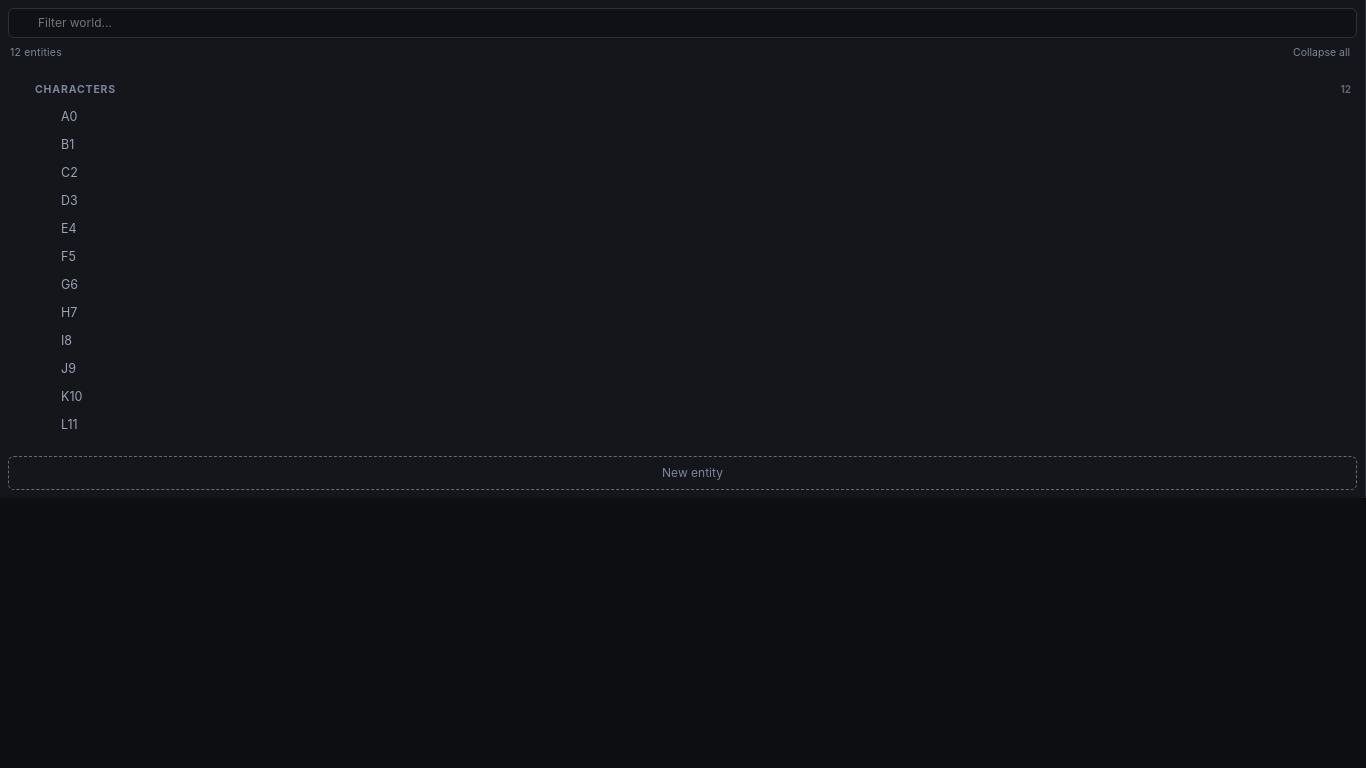
Test: navigator favourites and recents › offers the same switch in the row menu, the way in from the keyboard
Right-click the button "C2" at (44, 174), box [8,160,1357,188]
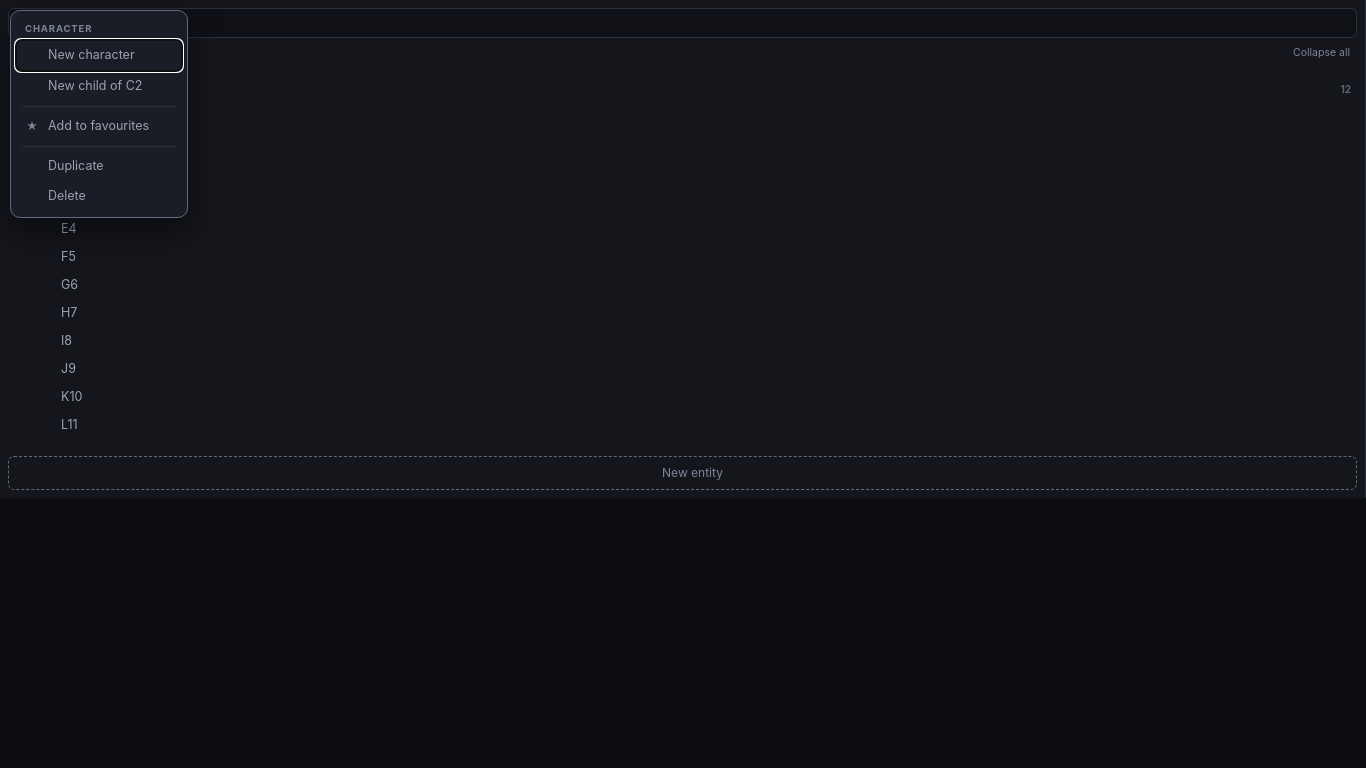
Click the menu item "Add to favourites" at (99, 126), box [16,111,182,142]
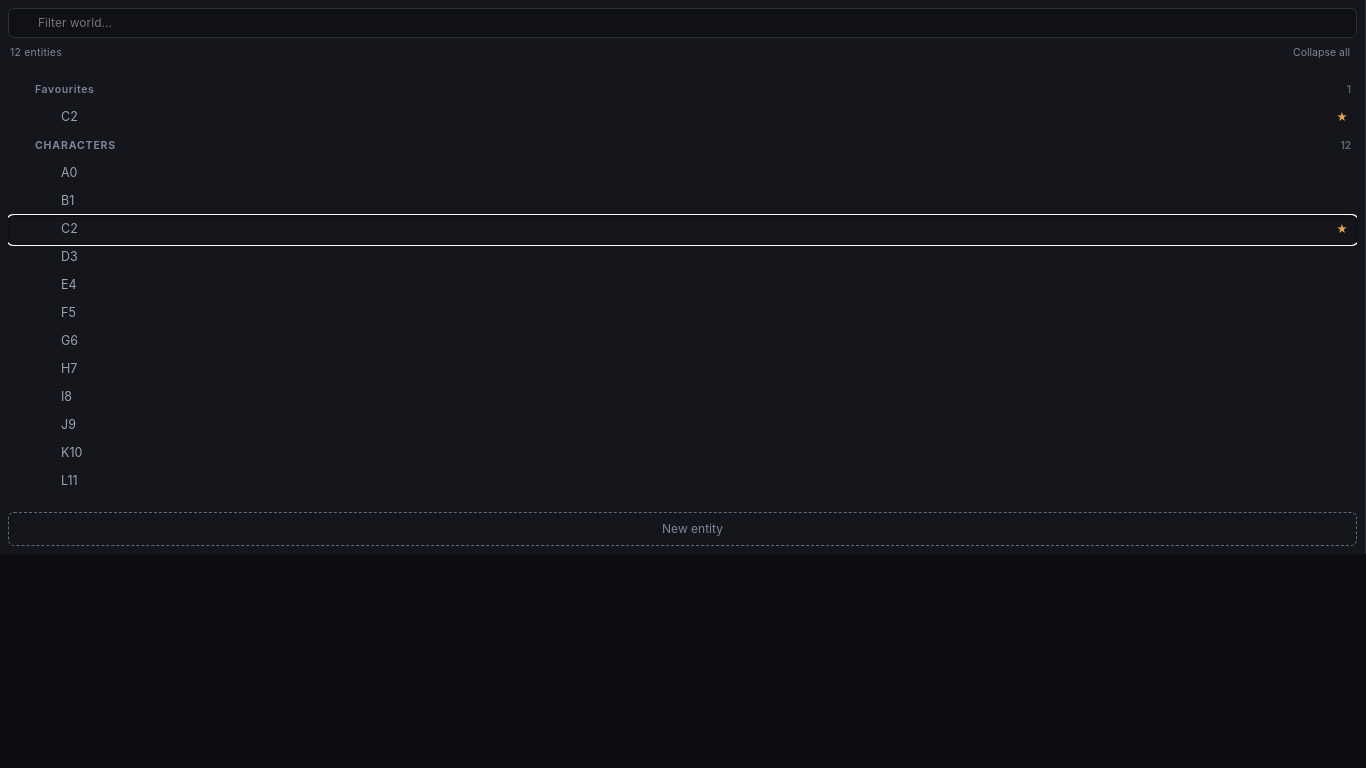
Right-click the 1st button "C2" at (44, 118), box [8,104,1357,132]
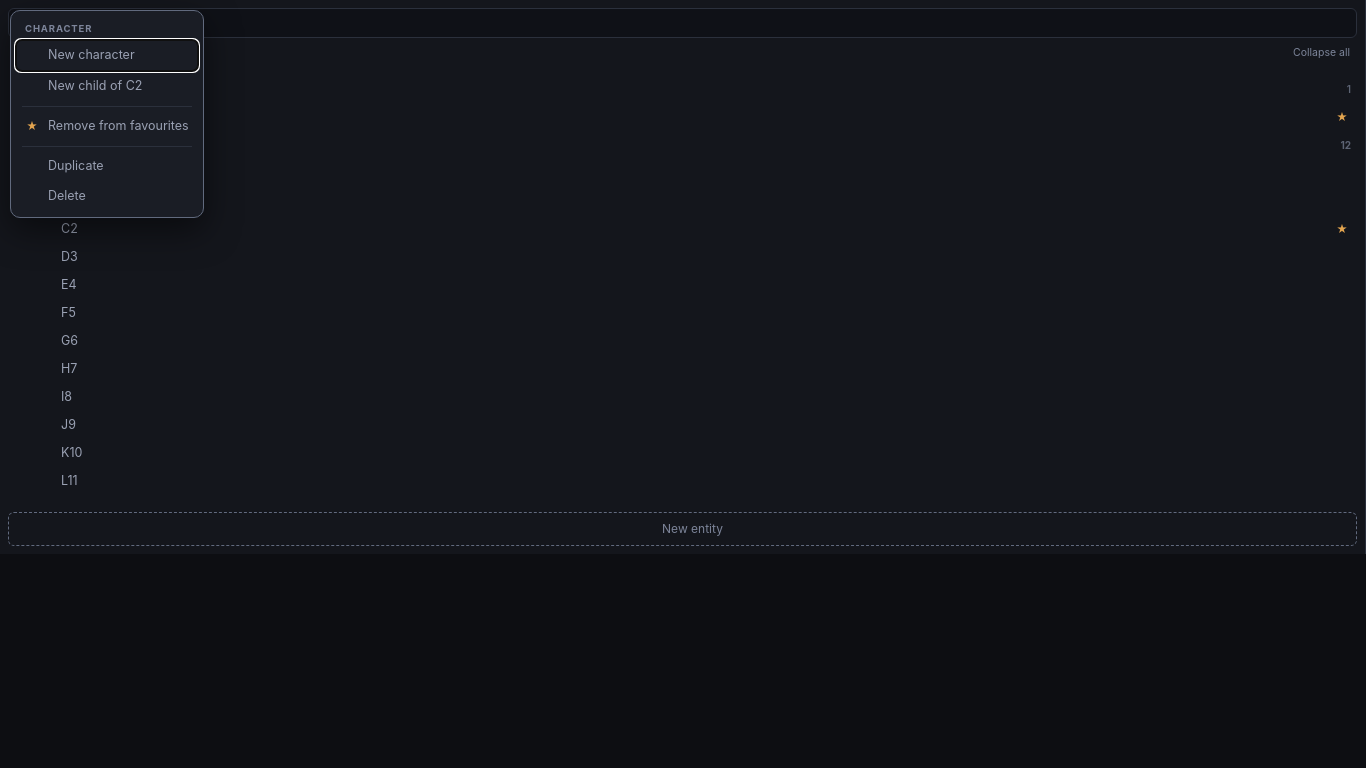
Expected: the menu item "Remove from favourites" is shown, [16,111,198,142]
